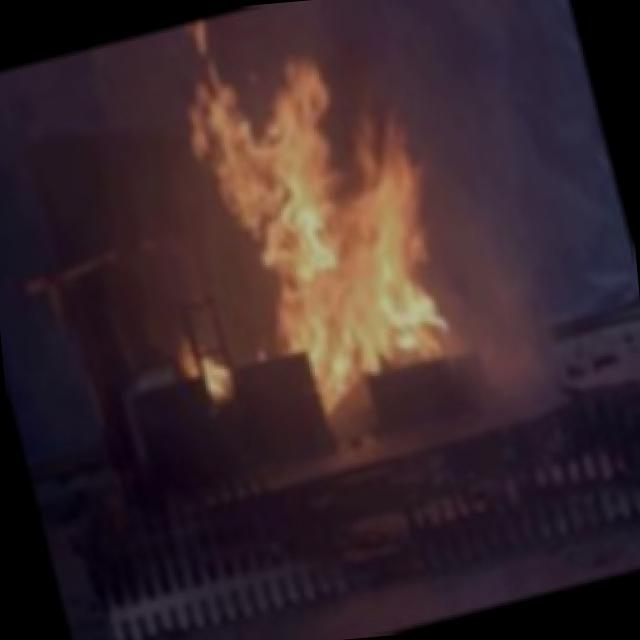fire: (162, 0, 512, 453)
